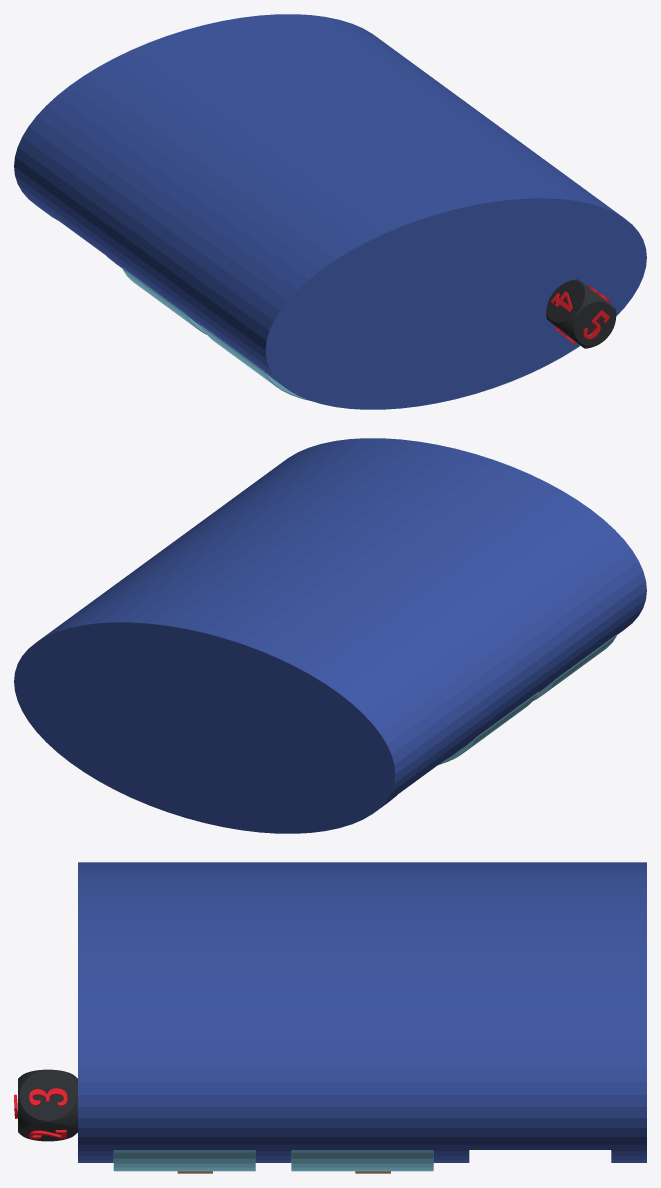
Rendered from tinker.obj.
3 views of the same model, one above another, from view 1: azimuth 30°, elevation 25°; view 2: azimuth 150°, elevation 25°; view 3: azimuth 270°, elevation 25° (orthographic). The views are drawn at different scales.
Parts seen in each view (by area): view 1: group_0_3888547, group_0_2829873, group_0_8768998, group_0_15277357; view 2: group_0_3888547, group_0_8768998; view 3: group_0_3888547, group_0_8768998, group_0_2829873, group_0_15277357.
Boxes of the visible parts, left/top/right/bottom form: group_0_3888547: left=14, top=14, right=646, bottom=409; group_0_2829873: left=546, top=279, right=616, bottom=348; group_0_8768998: left=122, top=267, right=310, bottom=400; group_0_15277357: left=551, top=285, right=610, bottom=344; group_0_3888547: left=14, top=438, right=646, bottom=833; group_0_8768998: left=438, top=634, right=617, bottom=764; group_0_3888547: left=78, top=862, right=646, bottom=1162; group_0_8768998: left=113, top=1150, right=433, bottom=1171; group_0_2829873: left=18, top=1069, right=77, bottom=1141; group_0_15277357: left=14, top=1088, right=67, bottom=1139.
Bounding box in the file's own units: 70 × 40 × 89.
